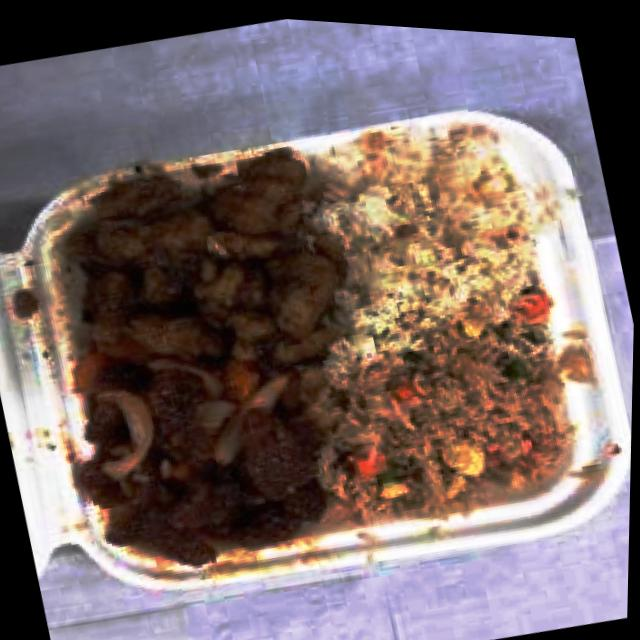Beijing Beef: (89, 335, 338, 584)
Fried Rice: (312, 320, 556, 528)
Kung Pao Chicken: (71, 158, 336, 411)
rice: (332, 135, 530, 338)
